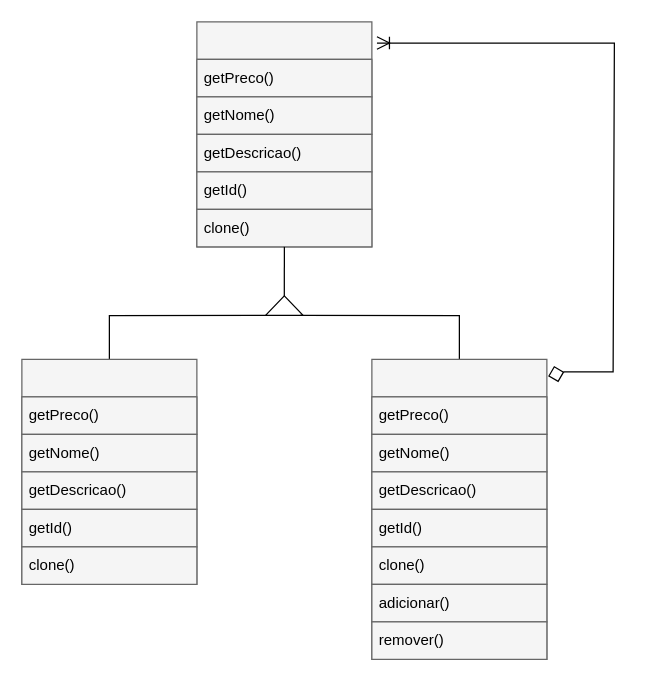
Some shapes in this 654 by 681 pixel diagram are drawn without their labels. Each missing label, with the box of its shape:
Component: (196, 21, 372, 247)
Pacote: (371, 358, 547, 659)
Produto: (21, 358, 197, 584)
